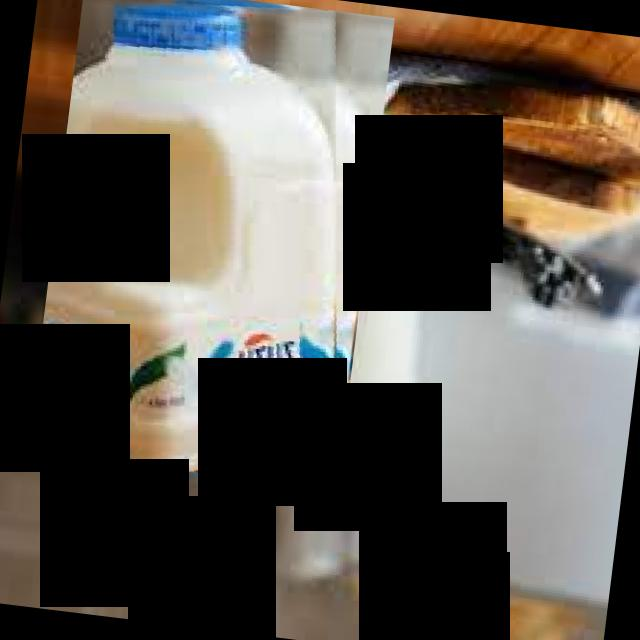milk: (26, 0, 394, 489)
